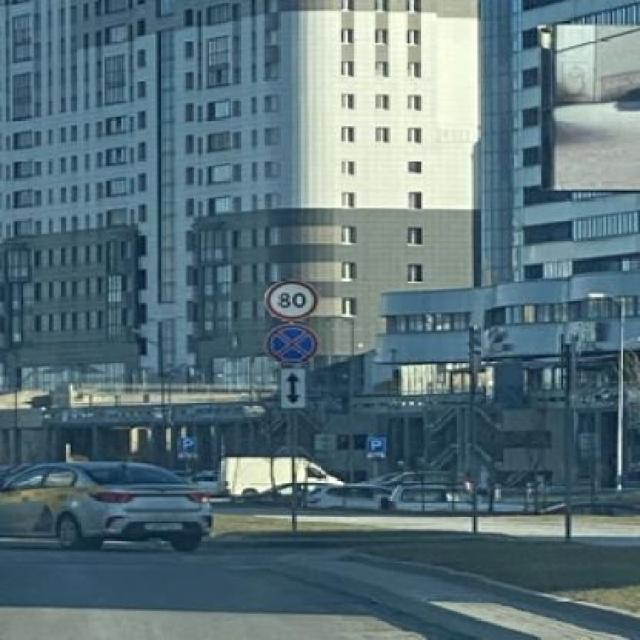forb_speed_over_80: (265, 282, 317, 320)
